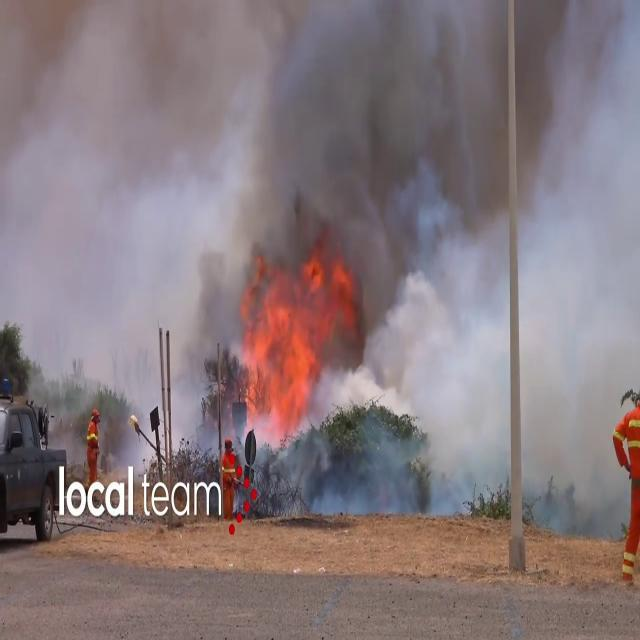Fire: (230, 264, 332, 443)
Smoke: (2, 1, 610, 383)
